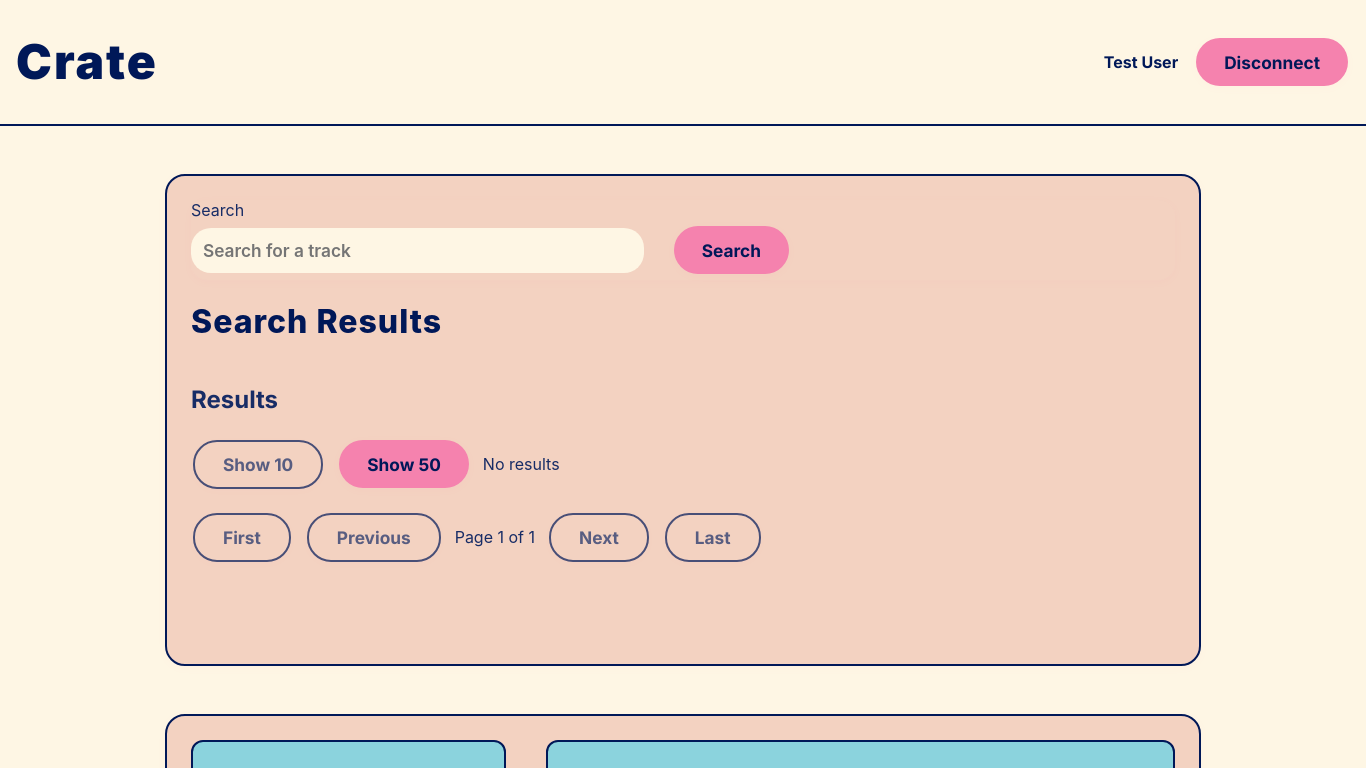
Test: App integration › performs a search and displays results
Expected: the text "Test User" is shown, left=1104, top=52, right=1178, bottom=72
Enter search term and submit
In the search field with placeholder "Search for a track": (417, 250) left=191, top=228, right=644, bottom=272, type "test"
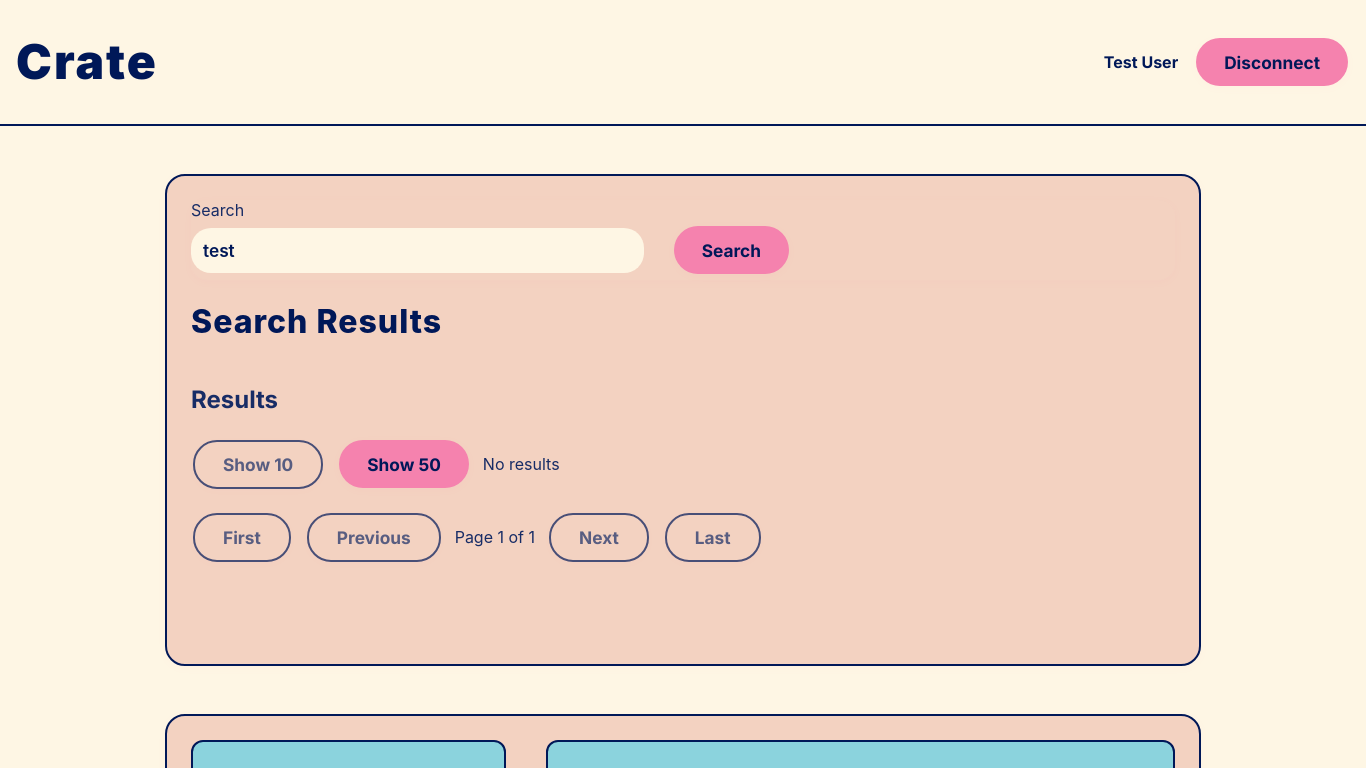
Press Enter in the search field with placeholder "Search for a track", box left=191, top=228, right=644, bottom=272
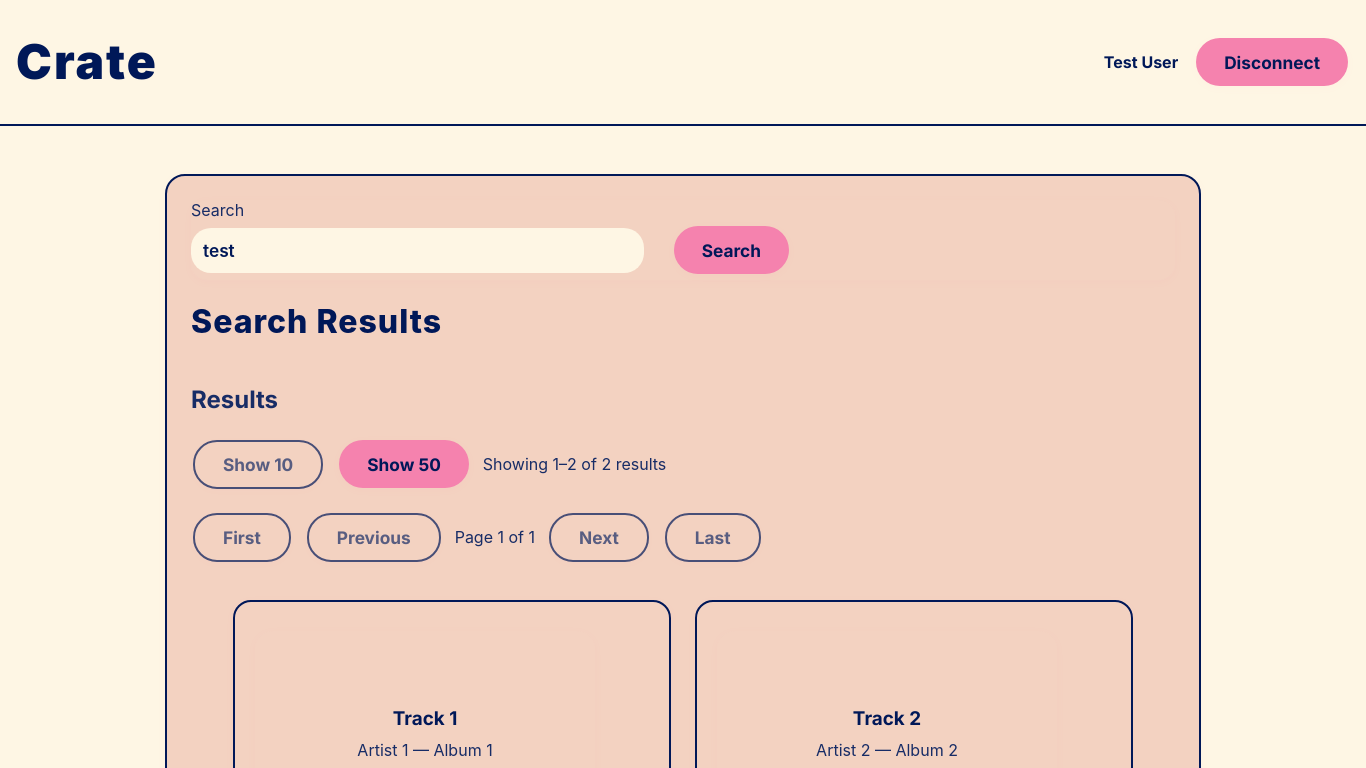
Now the text "Track 1" is shown, box left=393, top=707, right=457, bottom=730
Now the text "Track 2" is shown, box left=853, top=707, right=921, bottom=730
